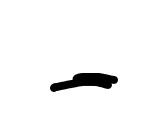minus: (52, 73, 118, 92)
